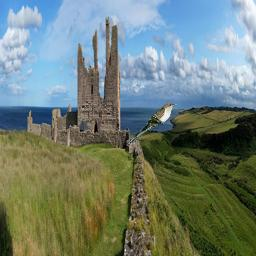Cuckoo: (126, 102, 178, 146)
